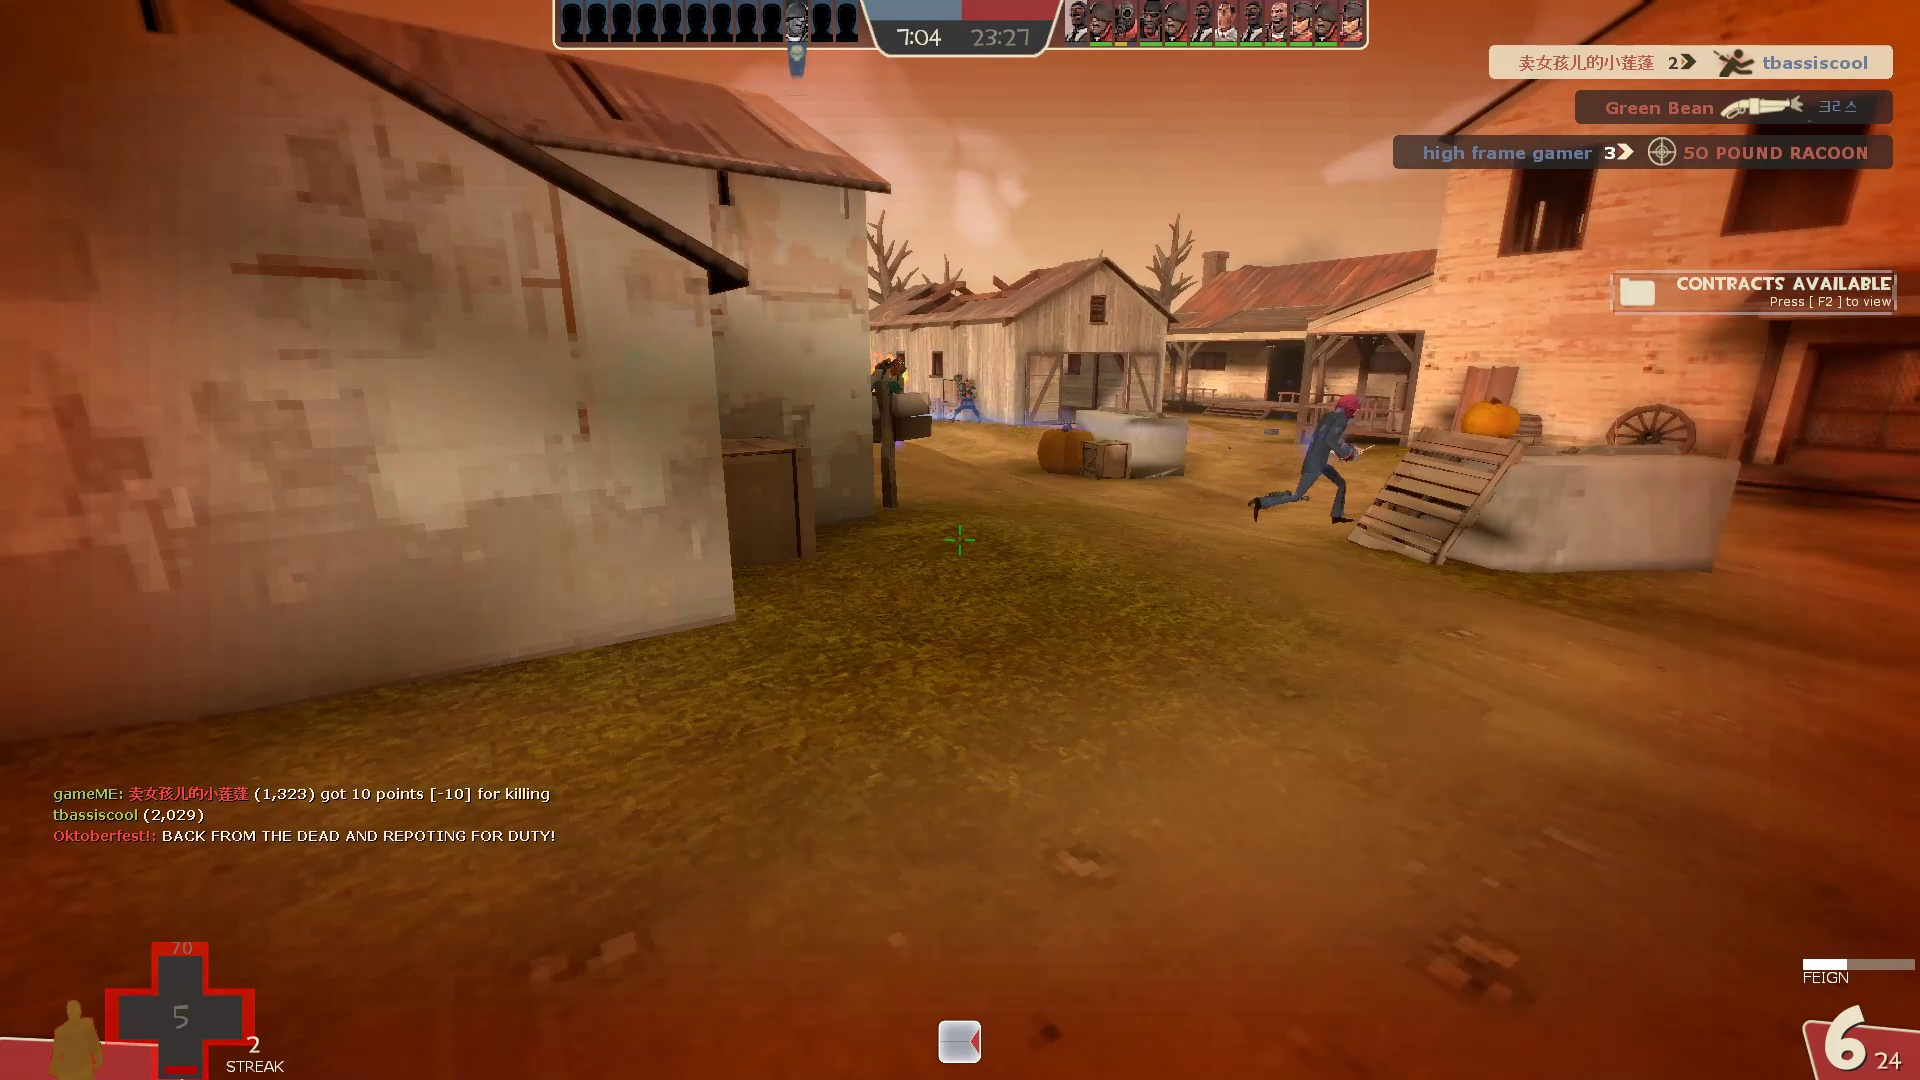blu_medic: (862, 349, 913, 447)
blu_soldier: (949, 375, 989, 429)
blu_spy: (1246, 389, 1370, 527)
